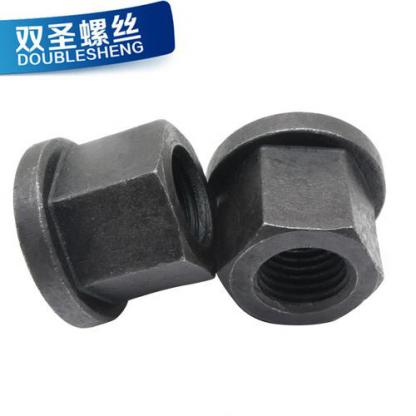FOD: (10, 116, 219, 342), (193, 110, 388, 326)
